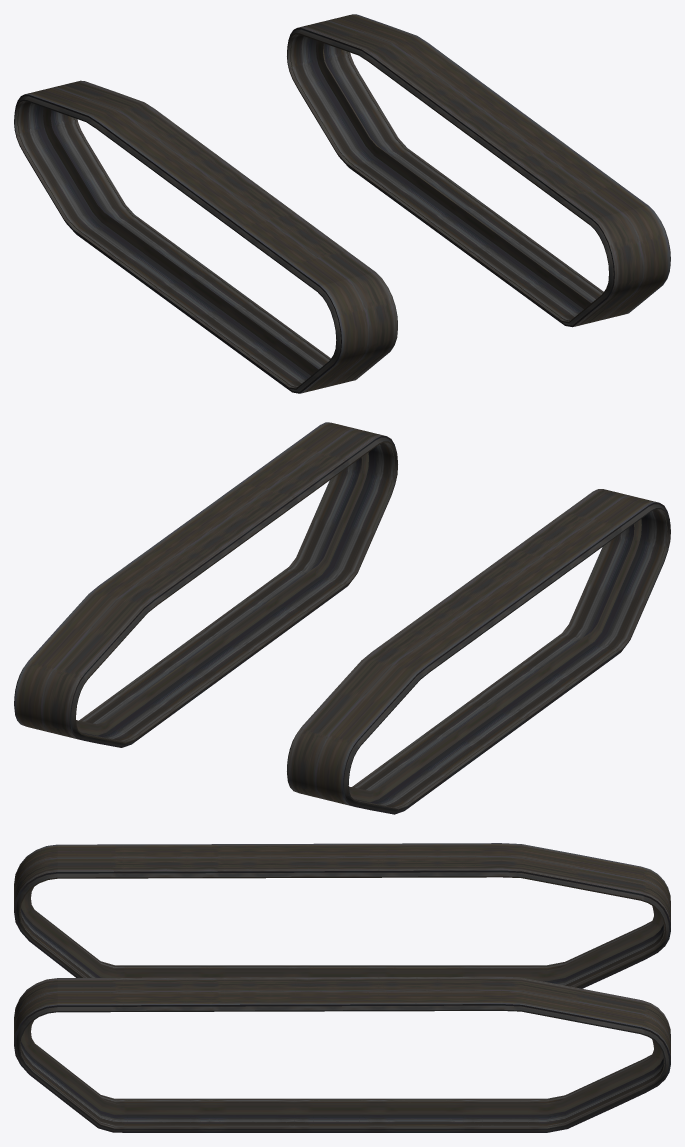
Rendered from pershing_hull_m1.obj.
The picture shows the model from 3 angles, top to bottom: view 1: azimuth 30°, elevation 25°; view 2: azimuth 150°, elevation 25°; view 3: azimuth 270°, elevation 25°; orthographic projection.
Parts seen in each view (by area): view 1: pershing_hull_m1; view 2: pershing_hull_m1; view 3: pershing_hull_m1.
Part boxes in pixels (x1,y1,x2,y2): pershing_hull_m1: (14,14,670,393); pershing_hull_m1: (14,422,670,814); pershing_hull_m1: (14,843,670,1132).
Bounding box in the file's own units: 3.33 × 1.22 × 5.65.
Materials: 1 (1 with a texture image).
